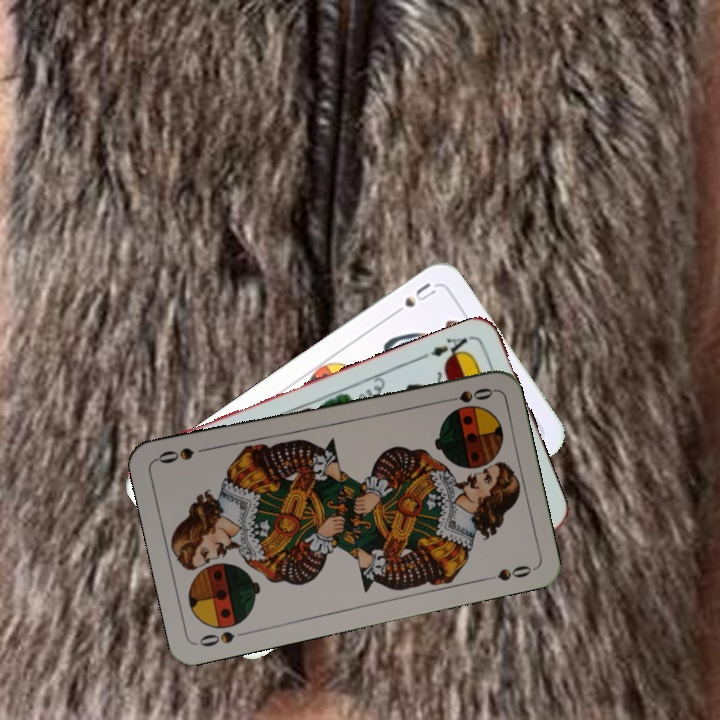EA: (427, 331, 475, 365)
SO: (437, 383, 496, 406), (195, 627, 252, 650)
SU: (386, 278, 439, 320)
